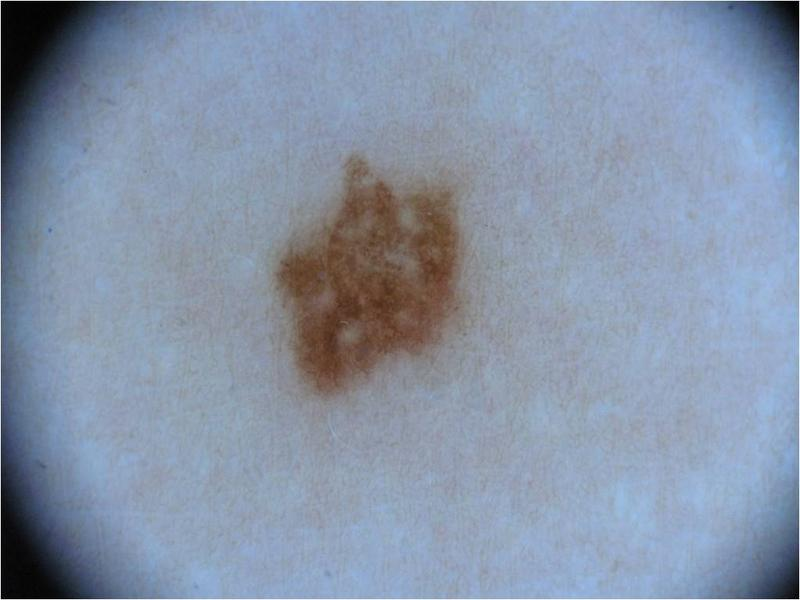Bengin: (271, 190, 457, 355)
